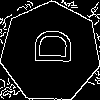D: (25, 27, 71, 65)
